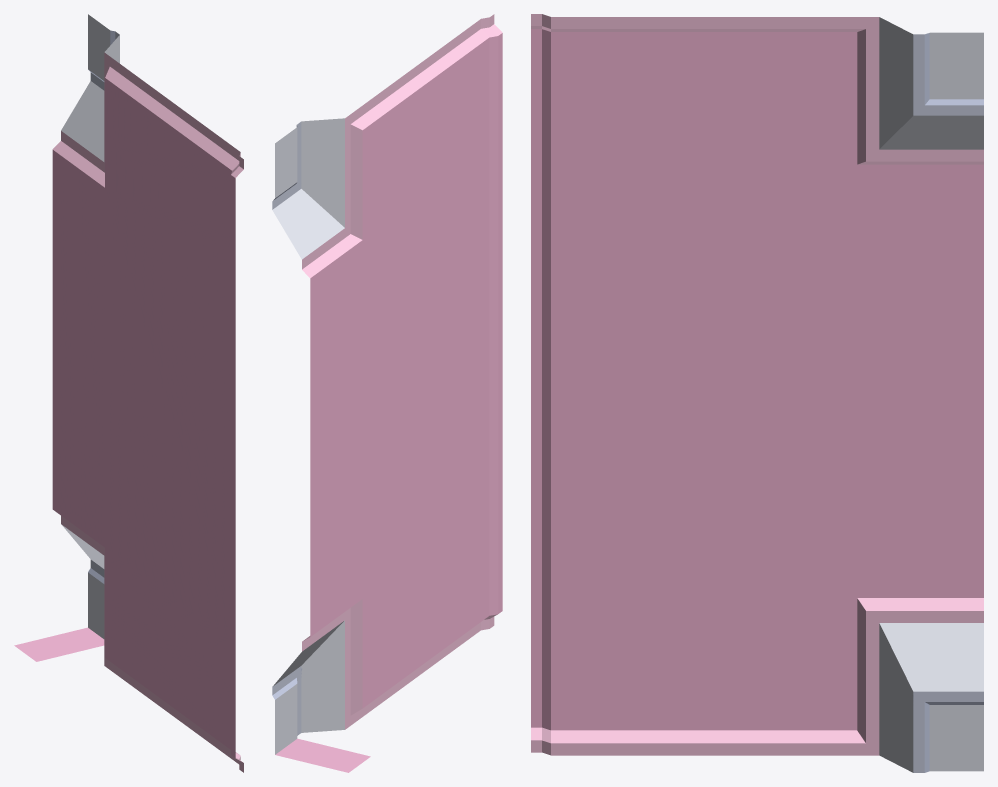
File: WallPanel_MidRight.fbx
The picture shows the model from 3 angles, left to right: view 1: azimuth 30°, elevation 25°; view 2: azimuth 150°, elevation 25°; view 3: azimuth 270°, elevation 25°; orthographic projection. The views are drawn at different scales.
Parts seen in each view (by area): view 1: Right; view 2: Right; view 3: Right.
Boxes of the visible parts, box(x1,y1,x2,y2) form: Right: box(14, 14, 243, 772); Right: box(272, 14, 502, 772); Right: box(531, 14, 983, 772).
Size of the model in its own units: 47.07 by 360 by 200.
Materials: 1 (1 with a texture image).
